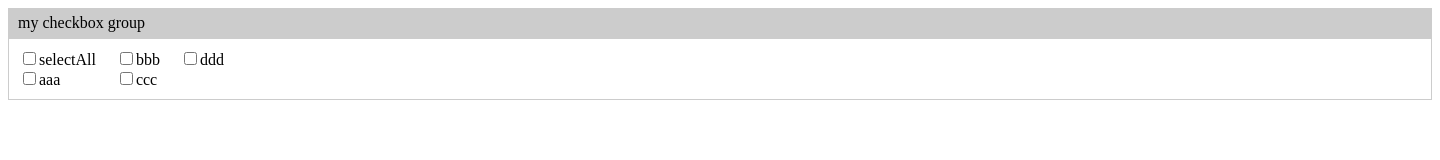
Test: select-all change with other checkboxs › select-all checked, other checkboxs will checked
The width and height of the screenshot is (1440, 160).
Click the checkbox with test id "testid_checkbox" showing "selectAll": (30, 58) [23,52,36,65]
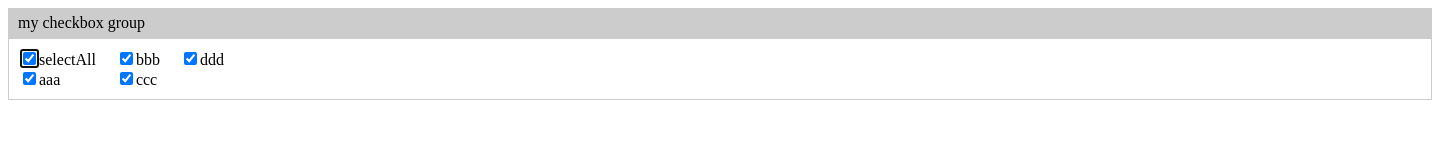
Result: the checkbox with test id "testid_checkbox" showing "selectAll" is checked at [23,52,36,65]
Result: the checkbox with test id "testid_checkbox" showing "aaa" is checked at [23,72,36,85]
Result: the checkbox with test id "testid_checkbox" showing "bbb" is checked at [120,52,133,65]
